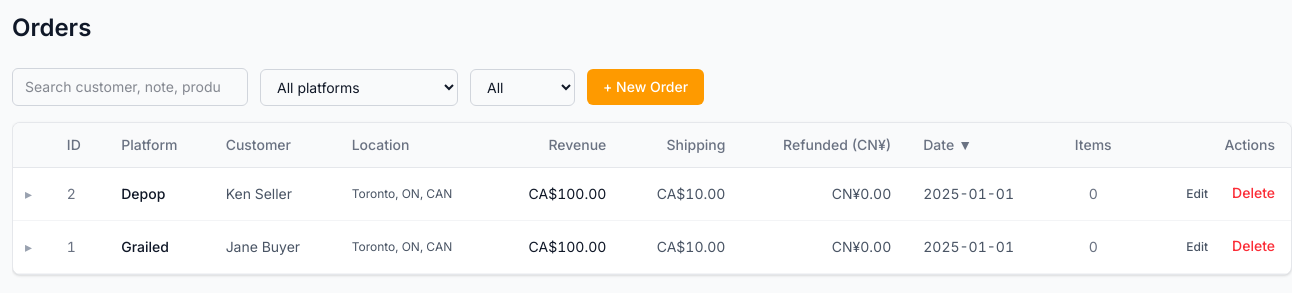
OrdersPage › narrows rows by platform
expect the text "Jane Buyer" is shown: met, box [210,220,336,274]
Step 1. Select "Depop" in the dropdown named "Platform" → (359,87), box [260,68,458,106]
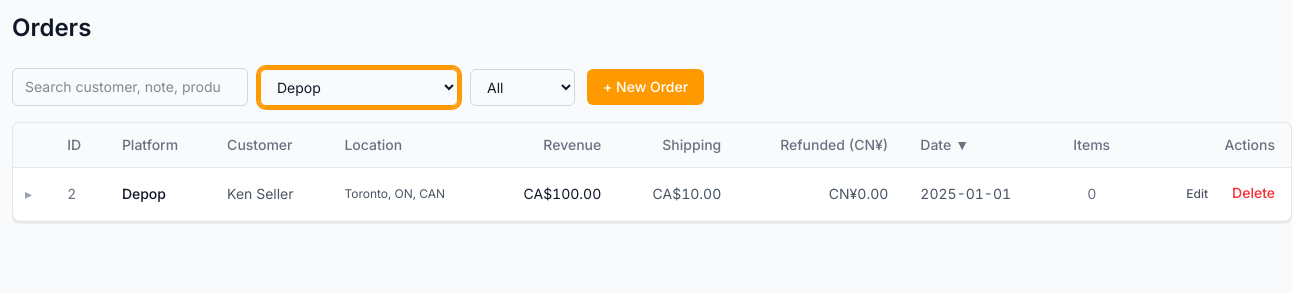
expect the text "Ken Seller" is shown: met, box [211,168,328,220]
expect the text "Jane Buyer" is gone: met
